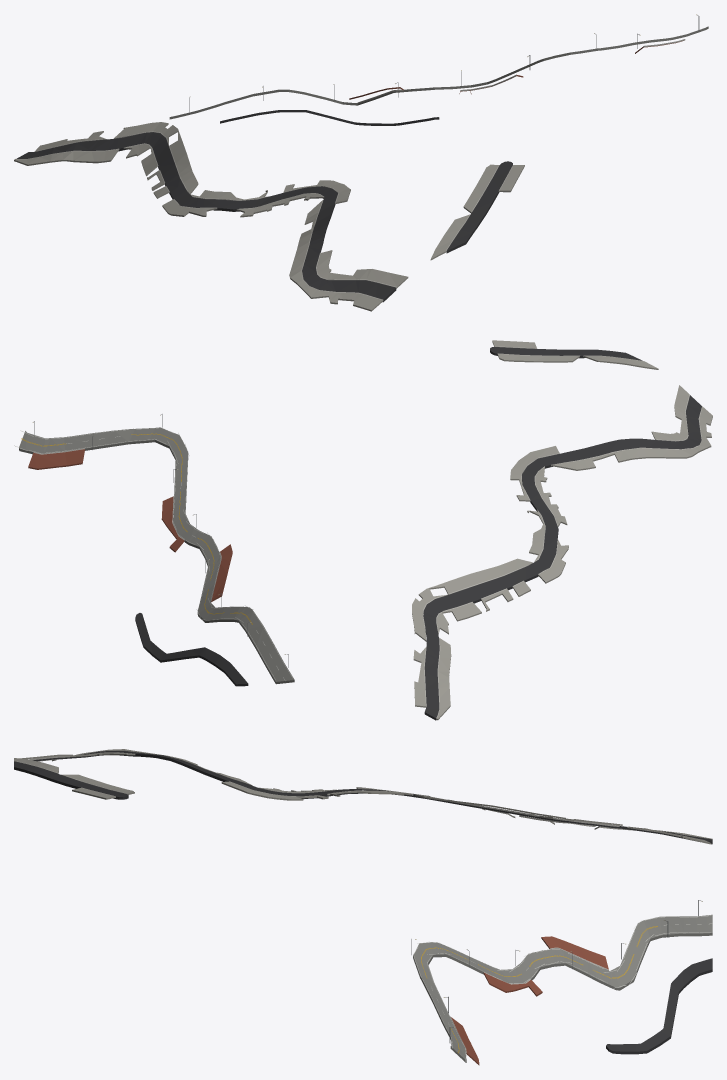
3 views of the same model, one above another, from view 1: azimuth 30°, elevation 25°; view 2: azimuth 150°, elevation 25°; view 3: azimuth 270°, elevation 25° (orthographic). The views are drawn at different scales.
Size of the model in its own units: 296 by 88.21 by 292.
